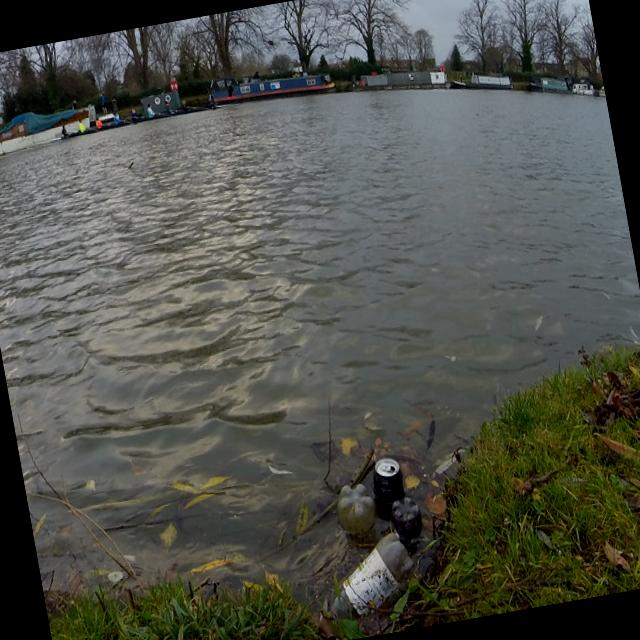Recycle: (314, 530, 420, 618), (331, 475, 380, 542), (371, 454, 407, 518), (388, 494, 423, 540)
